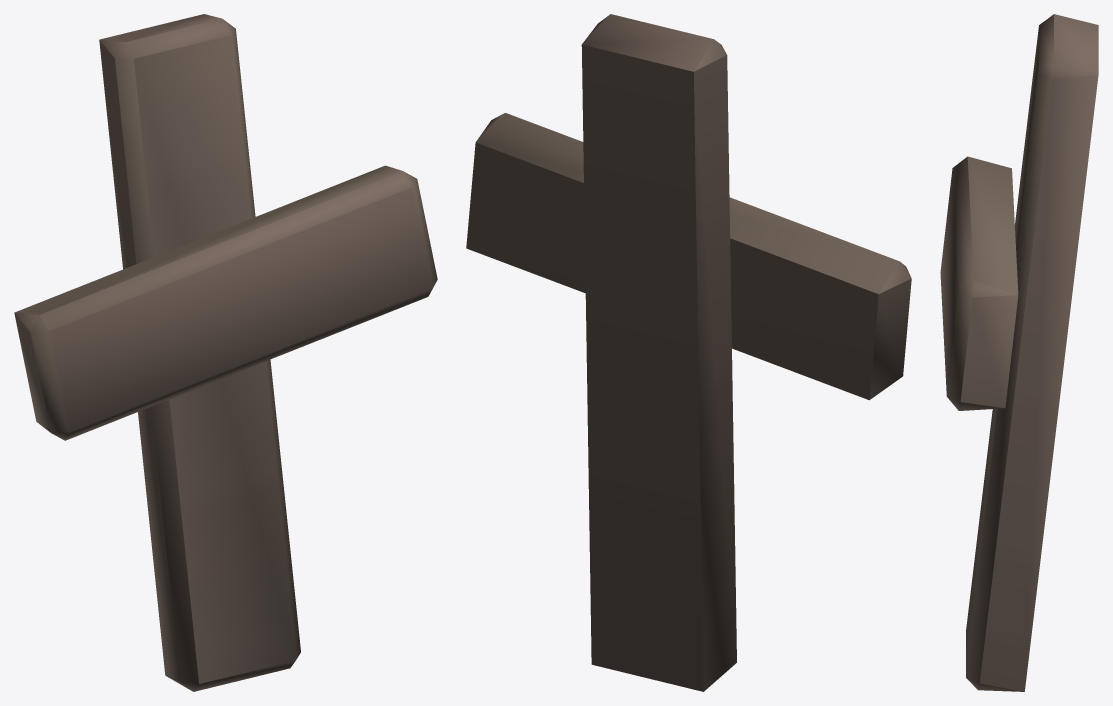
The model's file is gravemarker_a.glb.
3 renders of one model, left to right at view 1: azimuth 30°, elevation 25°; view 2: azimuth 150°, elevation 25°; view 3: azimuth 270°, elevation 25°, orthographic. The views are drawn at different scales.
Parts seen in each view (by area): view 1: gravemarker_A; view 2: gravemarker_A; view 3: gravemarker_A.
Part boxes in pixels (left/top/right/bottom): gravemarker_A: left=14, top=14, right=437, bottom=691; gravemarker_A: left=466, top=14, right=911, bottom=691; gravemarker_A: left=940, top=14, right=1098, bottom=691.
Size of the model in its own units: 0.8059 by 1.2 by 0.2782.
1 material, 1 textured.
